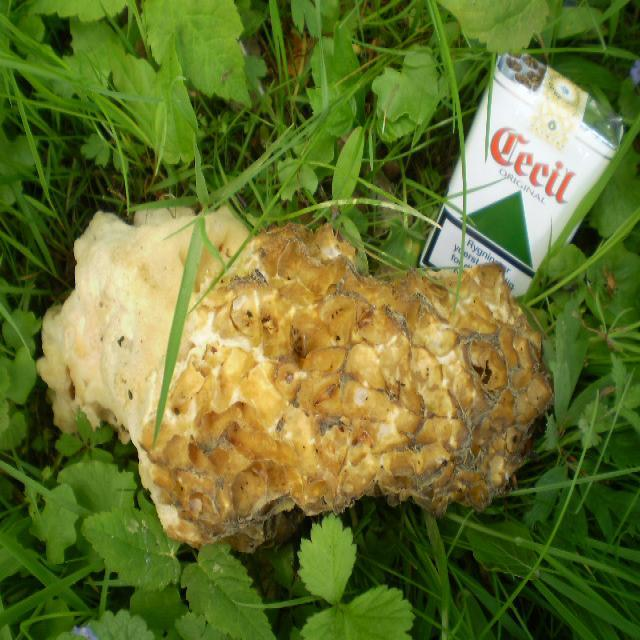Morchella esculenta: (36, 205, 550, 544)
